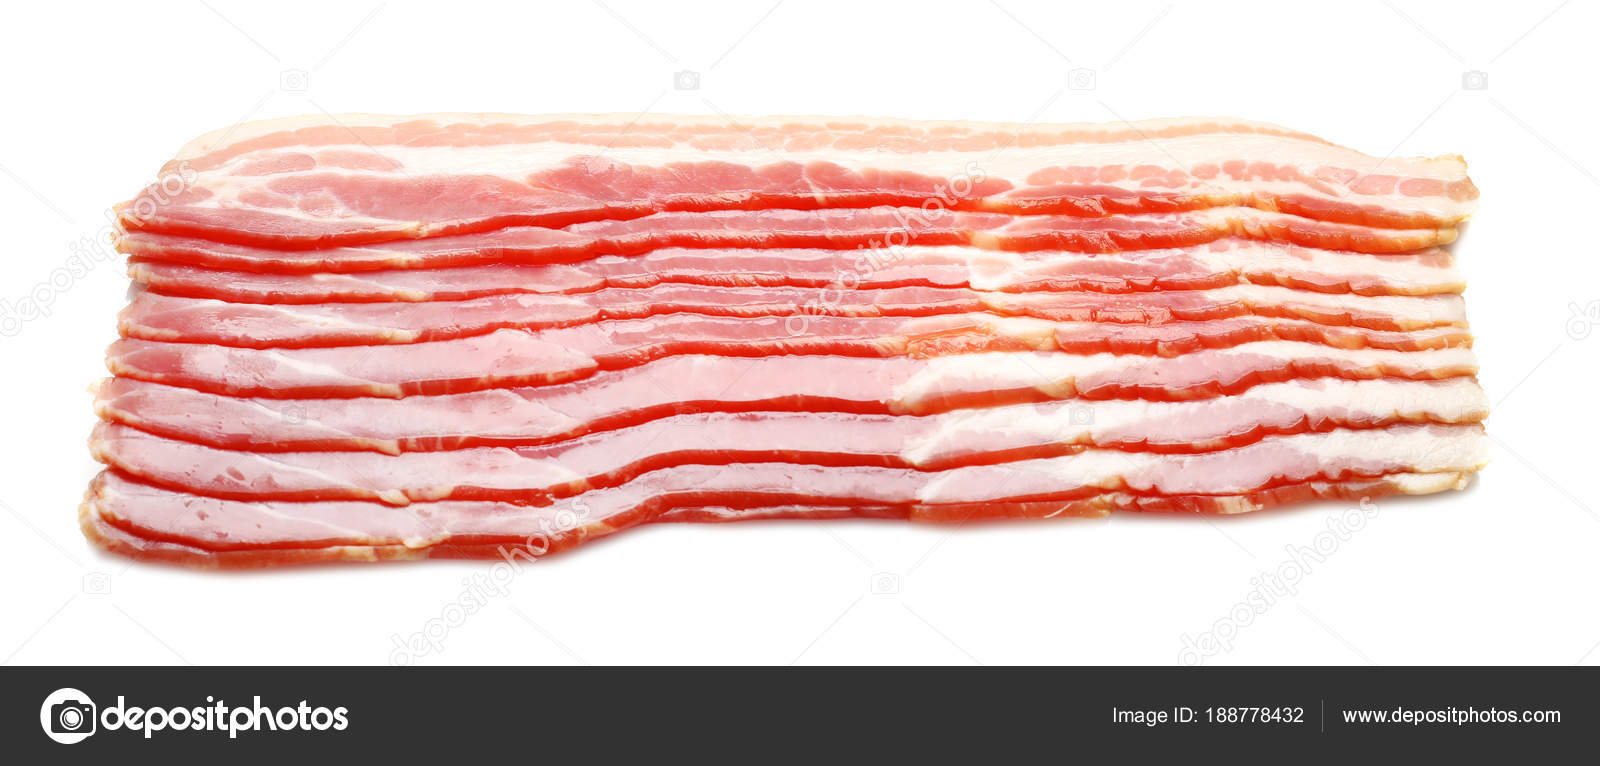bacon: (76, 108, 1489, 565)
